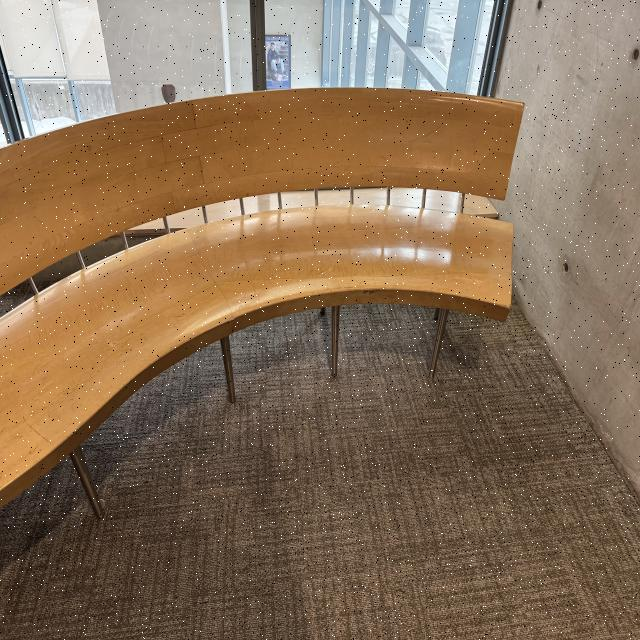Bench: (3, 77, 518, 519)
